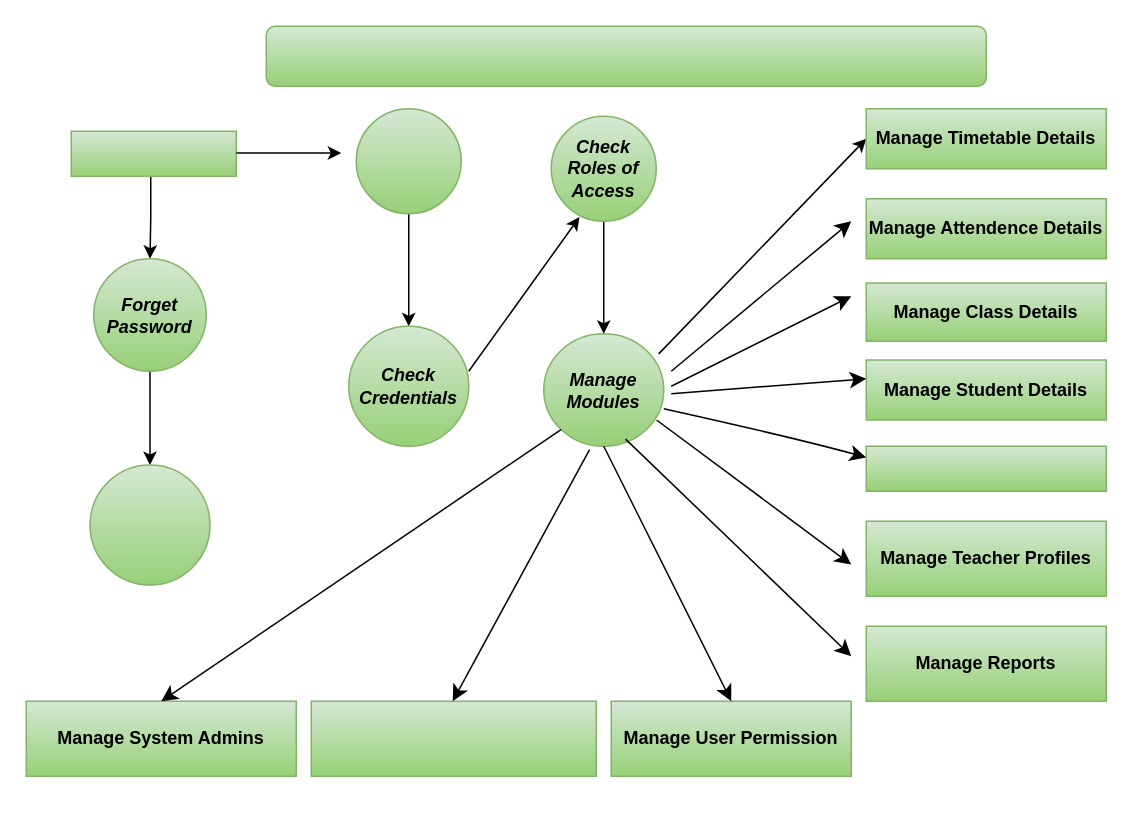
Image size: 1133x818. Some labels were removed from this diagram. Here are the shapes that lost their labels. From the top down, the centre of each, then its label:
the point at 625,55: STUDENT INFORMATION SYSTEM
the point at 153,153: Admin
the point at 408,160: Login to system
the point at 985,468: Manage Fees Details
the point at 149,524: Send Email to User
the point at 453,738: Manage Roles of User
